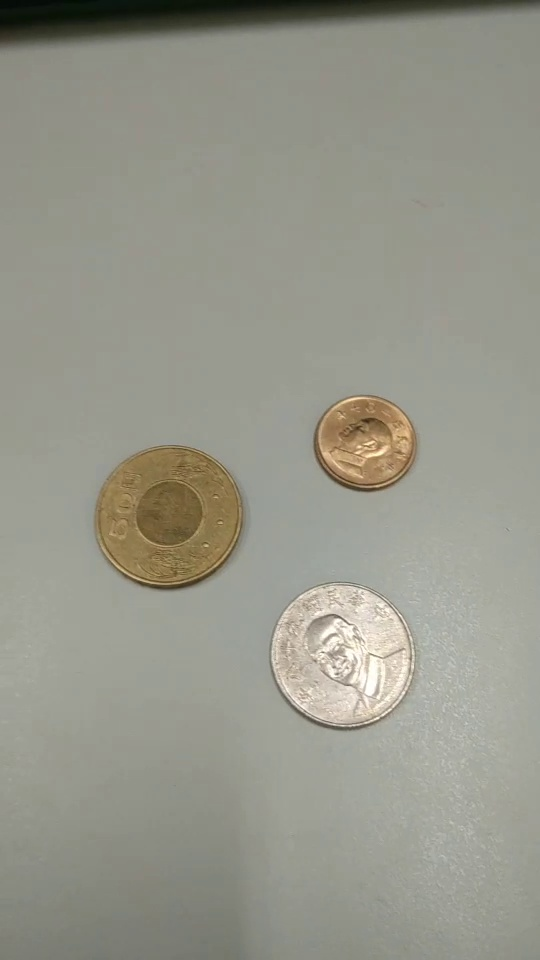NT$ 1: (314, 393, 418, 494)
NT$ 10: (265, 581, 417, 730)
NT$ 50: (95, 445, 246, 594)
